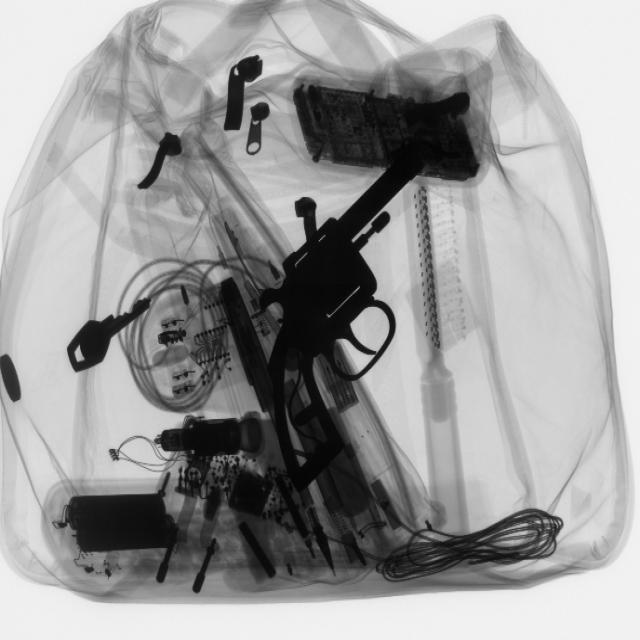GUN: (257, 139, 416, 517)
